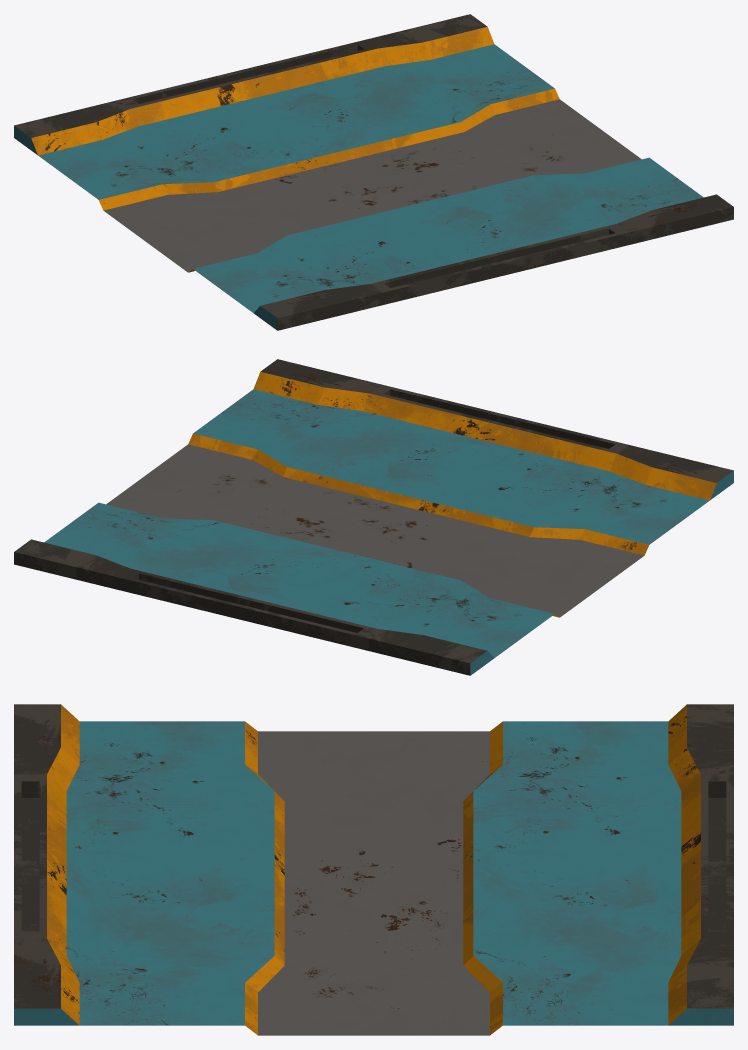
The model's file is Floor_modular_1 1.fbx.
The picture shows the model from 3 angles, top to bottom: view 1: azimuth 30°, elevation 25°; view 2: azimuth 150°, elevation 25°; view 3: azimuth 270°, elevation 25°; orthographic projection. The views are drawn at different scales.
Parts seen in each view (by area): view 1: Plane.002; view 2: Plane.002; view 3: Plane.002.
Boxes of the visible parts, <box> form: Plane.002: <box>14,14,733,330</box>; Plane.002: <box>14,359,733,675</box>; Plane.002: <box>14,704,733,1035</box>.
Bounding box in the file's own units: 300 × 12.41 × 300.
